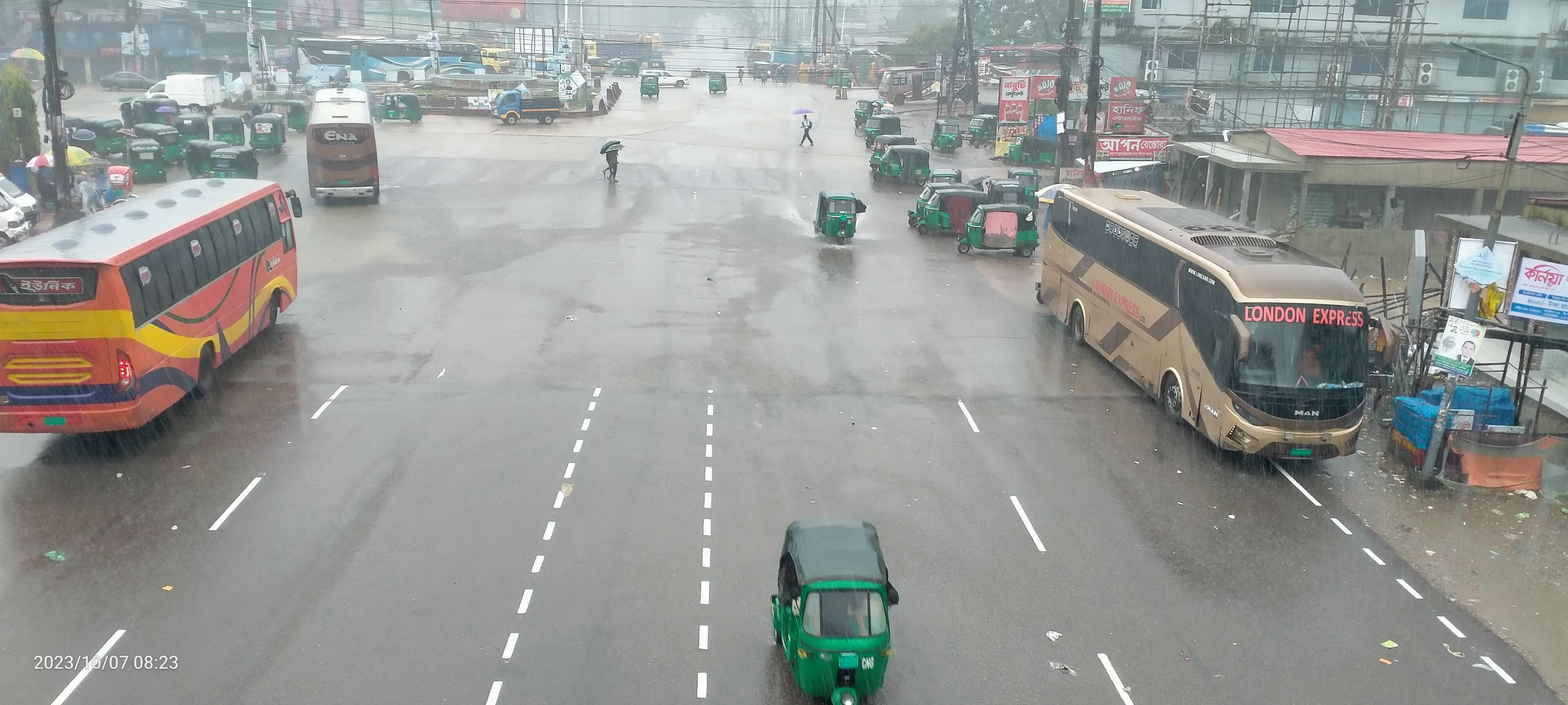Bus: (1033, 168, 1370, 487), (0, 165, 309, 452), (309, 78, 391, 216), (344, 31, 497, 103)
Car: (134, 63, 237, 112), (88, 63, 172, 101)
Truck: (478, 70, 577, 134)
